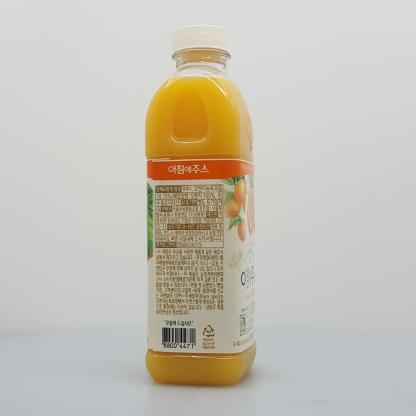----------950ML: (145, 24, 257, 387)
